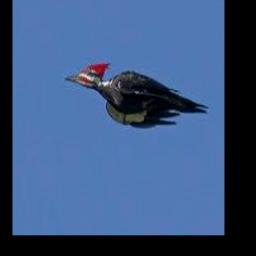Woodpecker: (65, 62, 209, 127)
